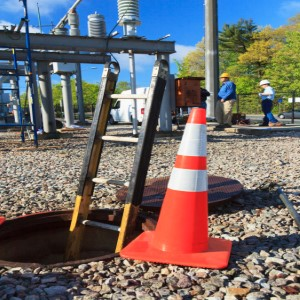traffic cone: (120, 106, 232, 270)
